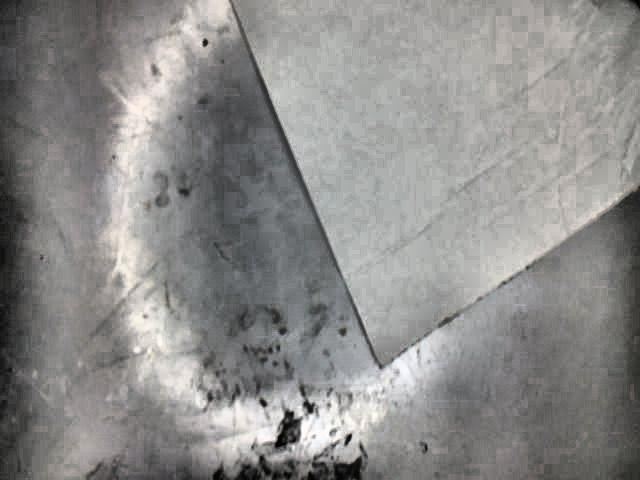Paper: (231, 0, 640, 371)
